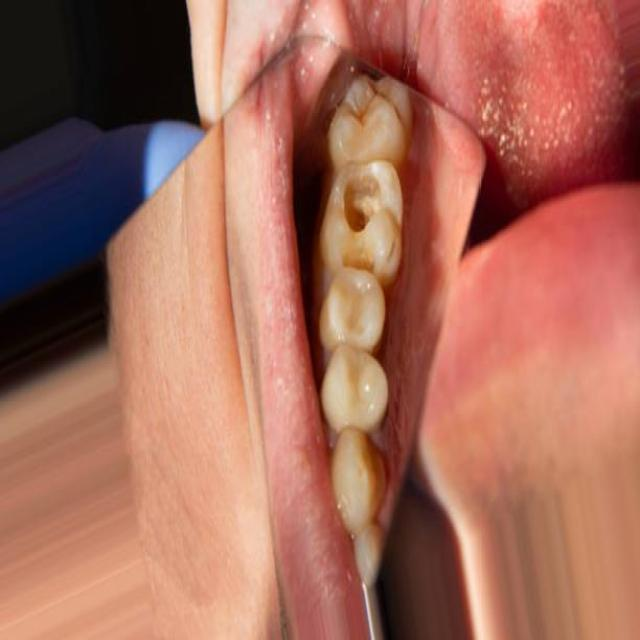caries: (336, 162, 391, 241), (334, 239, 384, 294)
